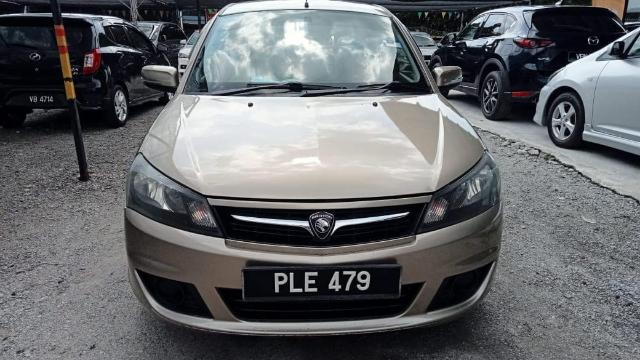License_Plate: (256, 266, 391, 297), (23, 95, 58, 107)
car: (123, 1, 505, 343)
